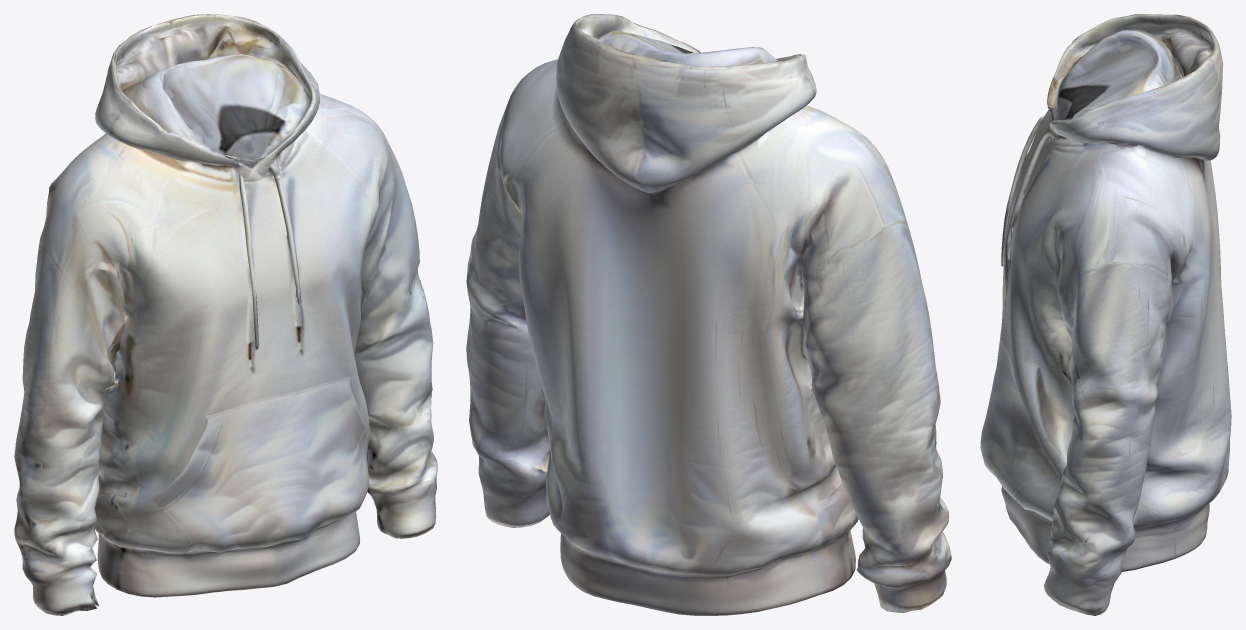
File: hoodie.glb
The picture shows the model from 3 angles, left to right: view 1: azimuth 30°, elevation 25°; view 2: azimuth 150°, elevation 25°; view 3: azimuth 270°, elevation 25°; orthographic projection. The views are drawn at different scales.
Bounding box in the file's own units: 0.8579 × 1 × 0.4703.
Materials: 1 (1 with a texture image).
